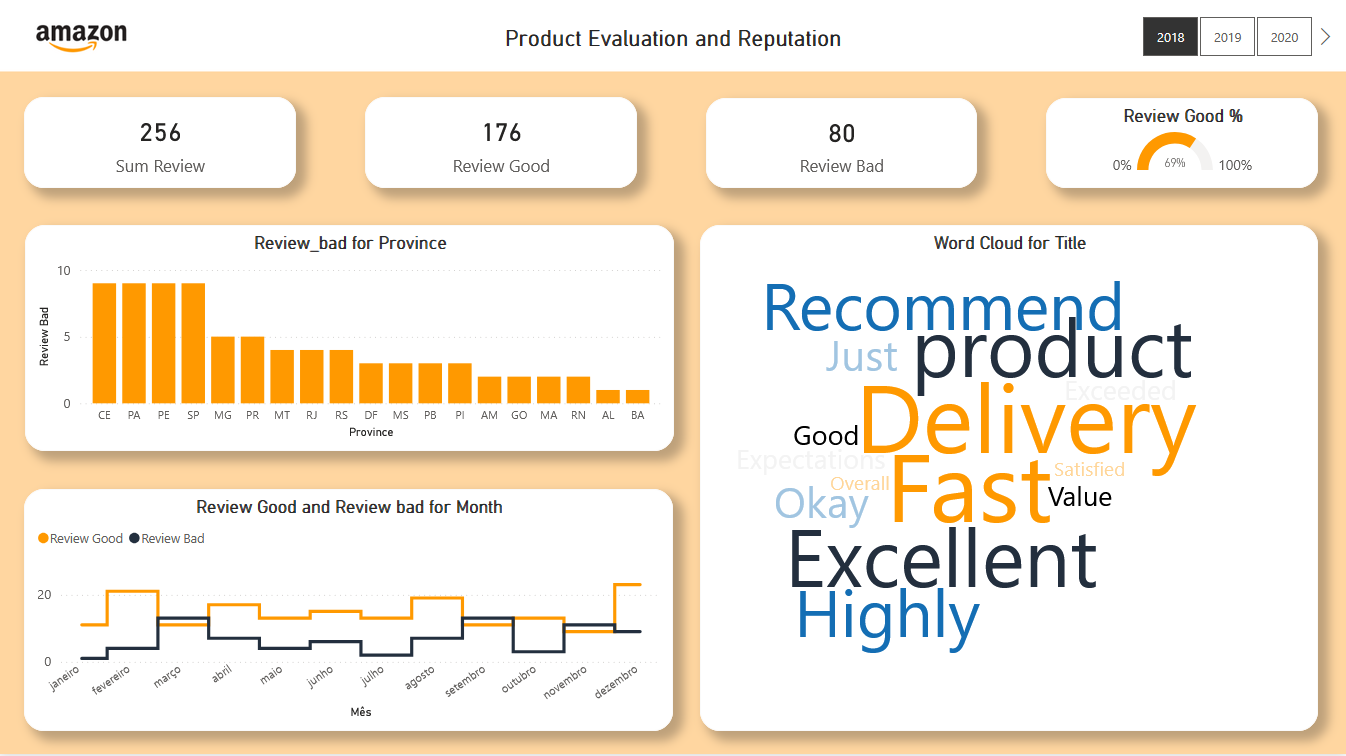

The page's visual inventory and layout, read from the dashboard file:
{"tool":"powerbi","page":{"name":"Product Evaluation and Reputation","canvas":[1280,720],"ordinal":1},"visuals":[{"type":"slicer","fields":{"Values":["Date.Date.Variation.Hierarquia de datas.Ano"]},"box":[1061,12.1,210.2,50.5],"z":0},{"type":"card","fields":{"Values":["#Medidas.Reviwe God"]},"box":[347.9,95,257.7,85.9],"z":1000},{"type":"card","fields":{"Values":["#Medidas.Review_bad"]},"box":[671.6,96,257.7,84.9],"z":2000},{"type":"card","fields":{"Values":["#Medidas.Sum_review"]},"box":[24.3,95,257.7,85.9],"z":3000},{"type":"gauge","title":"Review Good %","fields":{"Y":["#Medidas.Review God %"]},"box":[995.3,96,257.7,84.9],"z":4000},{"type":"clusteredColumnChart","title":"Review_bad for Province","fields":{"Category":["City.Province"],"Y":["#Medidas.Review_bad"]},"box":[25.3,217.3,615.4,214.2],"z":5000},{"type":"WordCloud1447959067750","title":"Word Cloud for Title ","fields":{"Category":["amazon.review_title"],"Values":["#Medidas.Reviwe_god"]},"box":[666.3,217.2,586.8,479.9],"z":6000},{"type":"lineChart","title":"Review Good and Review bad for Month","fields":{"Y":["#Medidas.Reviwe_god","#Medidas.Review_bad"],"Category":["Date.Date.Variation.Hierarquia de datas.Mês"]},"box":[24.4,467.1,615.4,229.9],"z":7000},{"type":"textbox","box":[428.3,22.2,423.3,41.1],"z":8000}]}

Visuals, with their boxes in screenshot pixels (x1, y1, x2, y2), scaled from the page's 1280x720 canvas onto the 1346x756 screenshot:
slicer - Date.Date.Variation.Hierarquia de datas.Ano: crop(1116, 13, 1337, 66)
card - #Medidas.Reviwe God: crop(366, 100, 637, 190)
card - #Medidas.Review_bad: crop(706, 101, 977, 190)
card - #Medidas.Sum_review: crop(26, 100, 297, 190)
"Review Good %" gauge: crop(1047, 101, 1318, 190)
"Review_bad for Province" clusteredColumnChart: crop(27, 228, 674, 453)
"Word Cloud for Title " WordCloud1447959067750: crop(701, 228, 1318, 732)
"Review Good and Review bad for Month" lineChart: crop(26, 490, 673, 732)
textbox: crop(450, 23, 896, 66)
